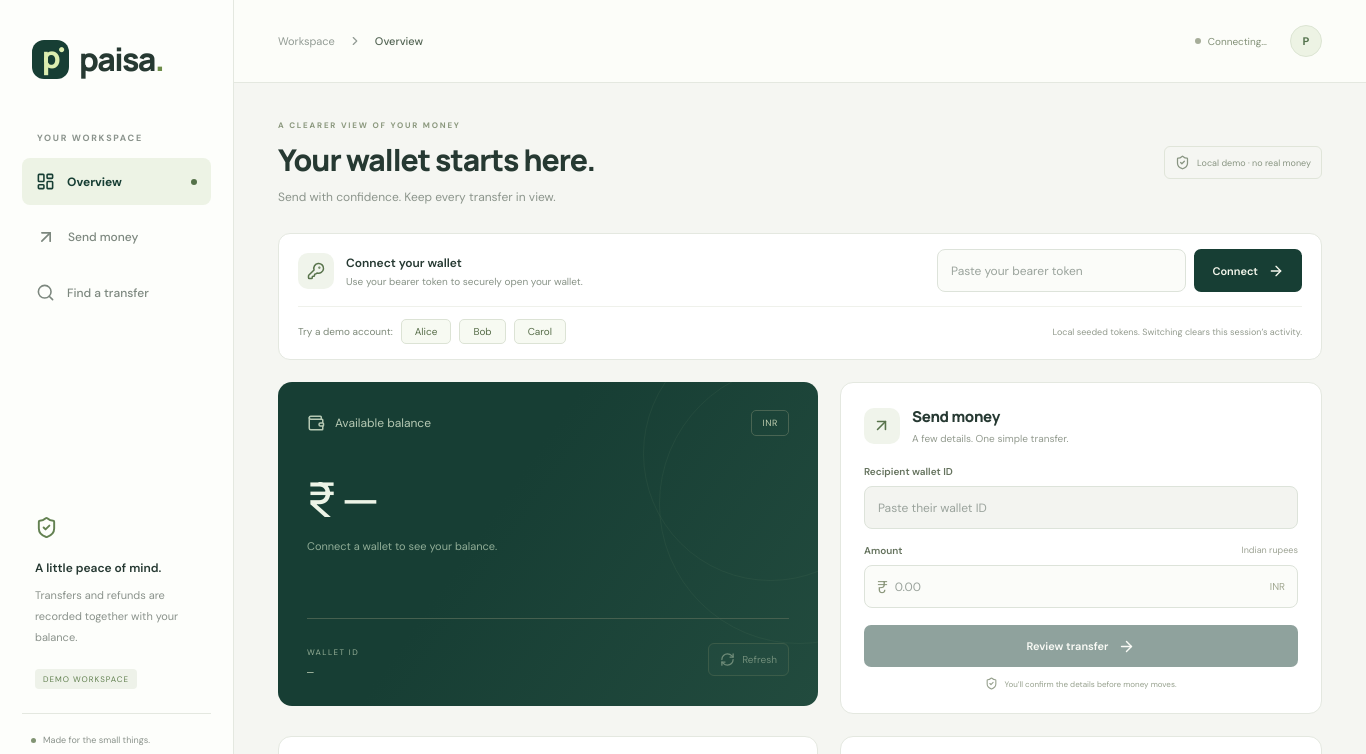
it: retains the identical request after an uncertain response
Type "test-token" into the password field labelled "bearer token". click: (1062, 270)
box: [937,249,1186,292]
Click the button "Connect". click: (1248, 270)
box: [1194,249,1302,292]
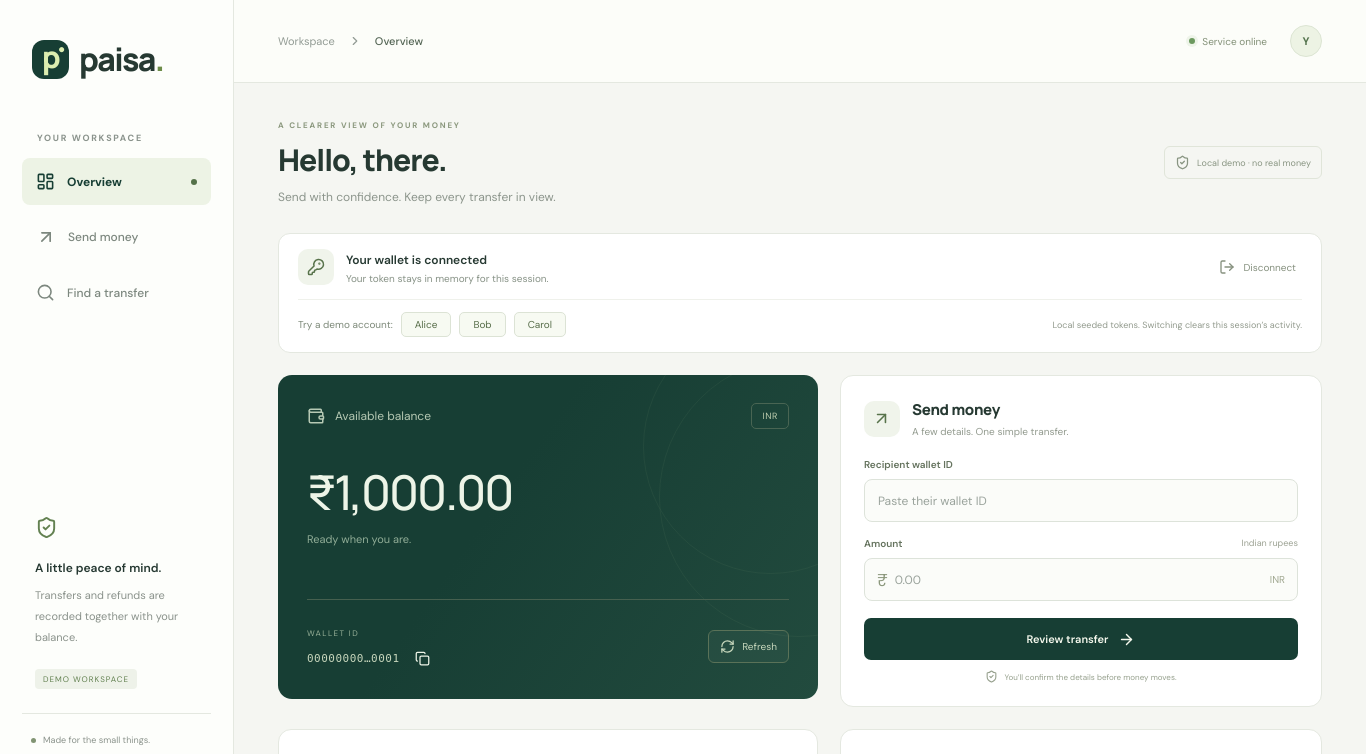
Expected: the text "Your wallet is connected" is shown, [346,252,487,268]
Type "00000000-0000-4000-8000-000000000002" into the field labelled "Recipient wallet ID". click: (1081, 500)
box: [864,479,1298,522]
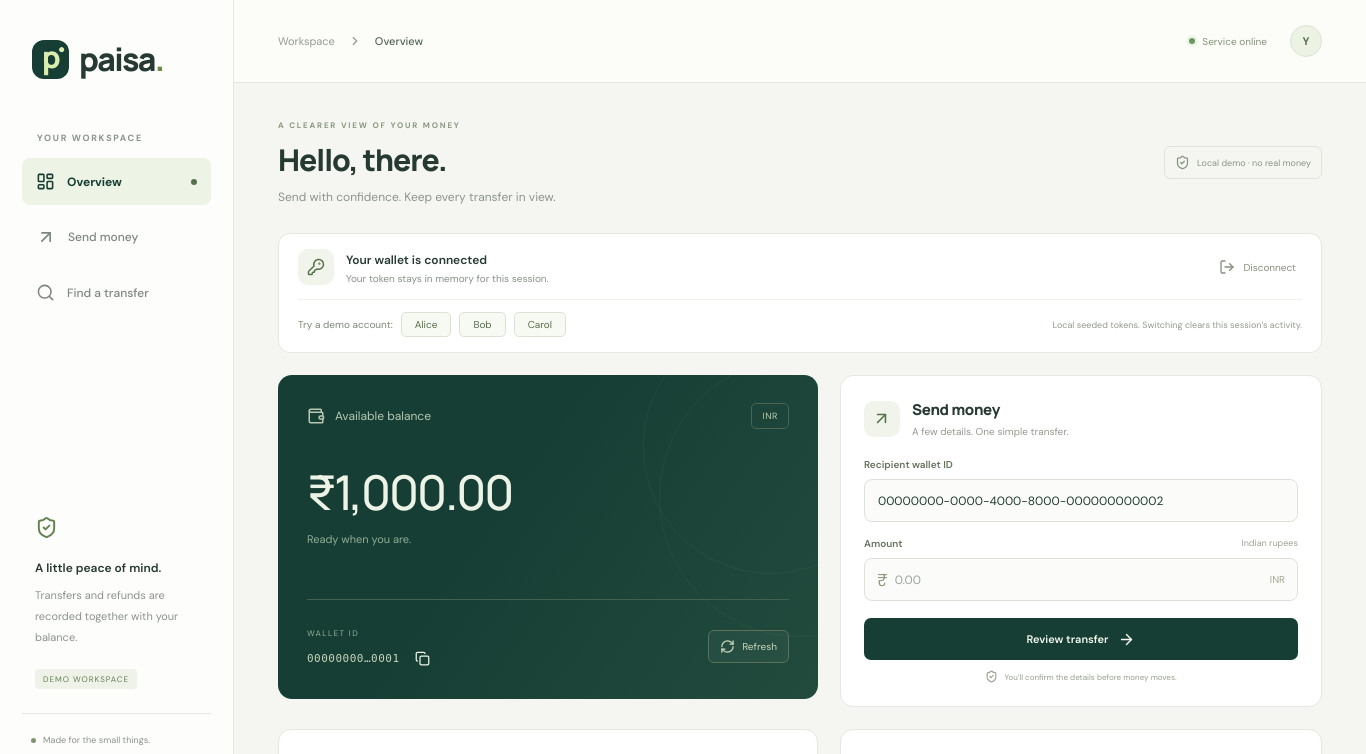
Type "12.34" into the field labelled "Amount". click: (1079, 580)
box: [895,560,1263,598]
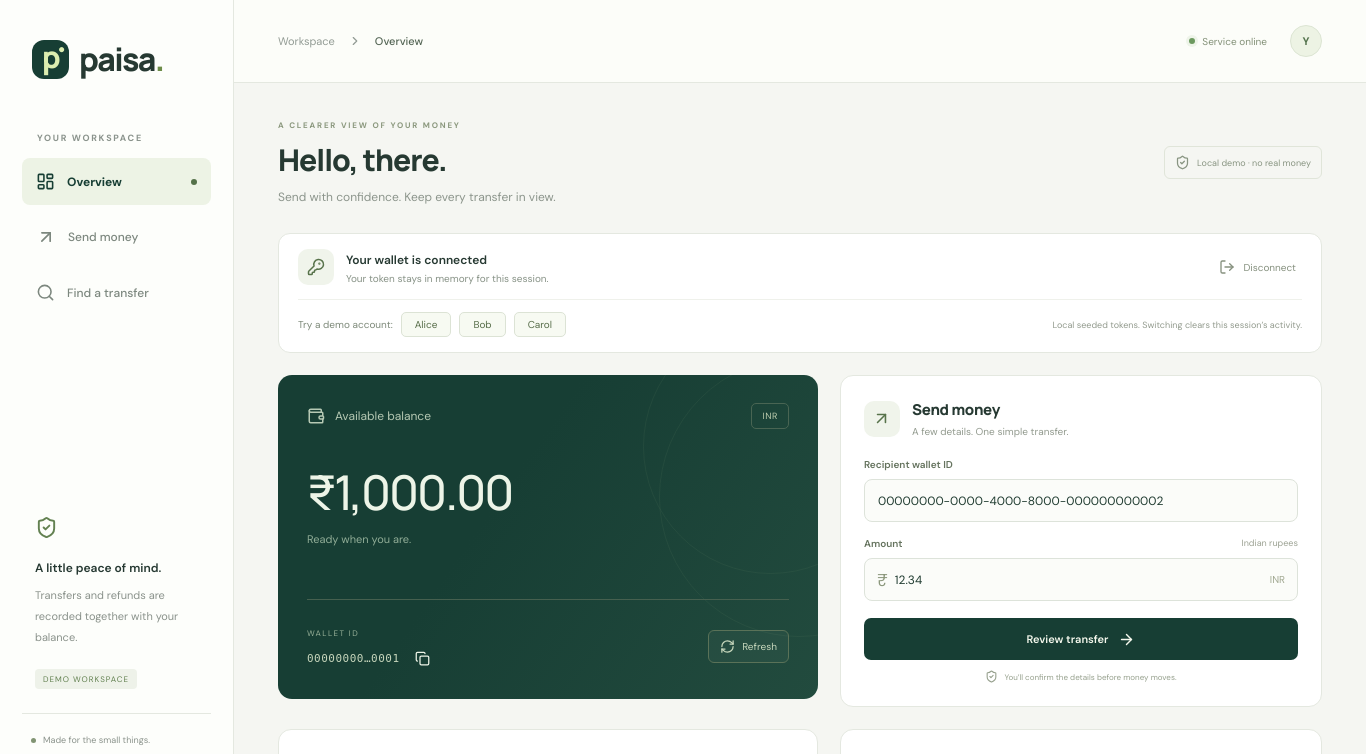
Click the button "Review transfer". click: (1081, 639)
box: [864,618,1298,660]
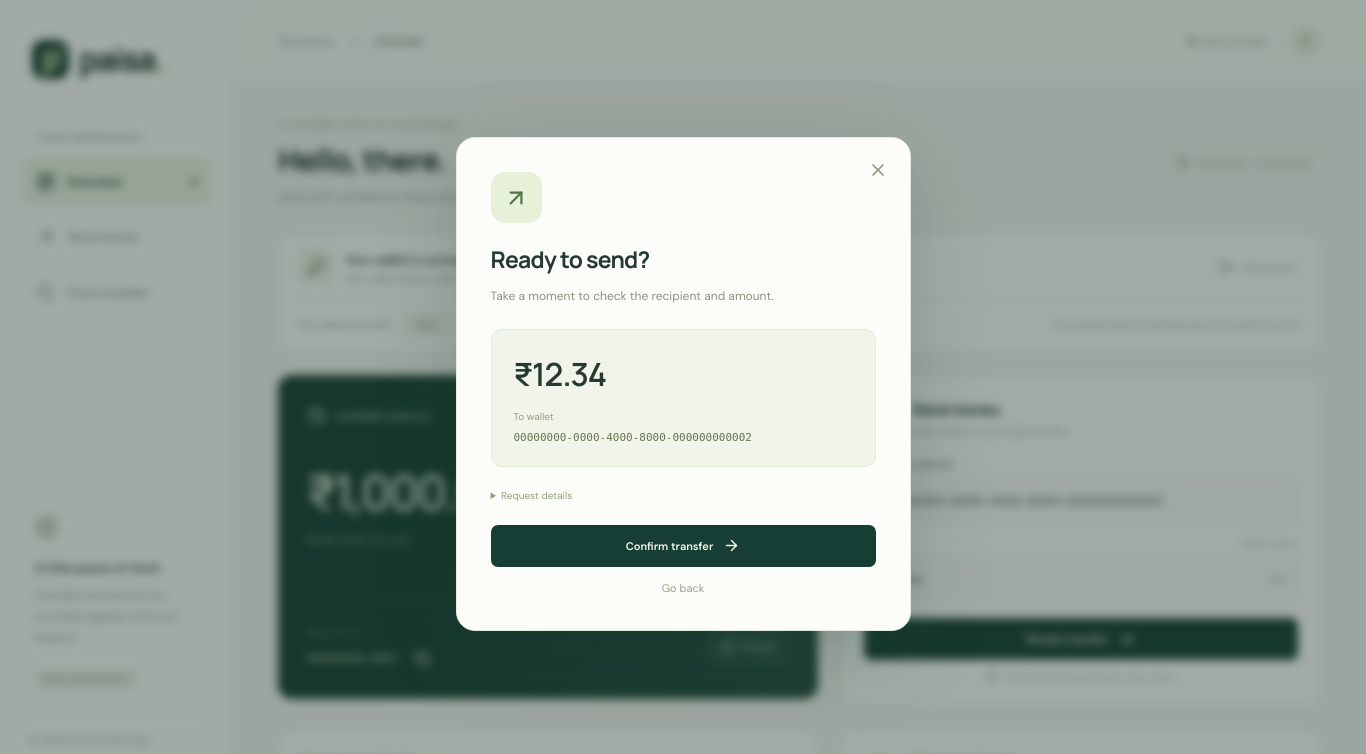
Click the button "Confirm transfer". click: (683, 546)
box: [490,525,876,567]
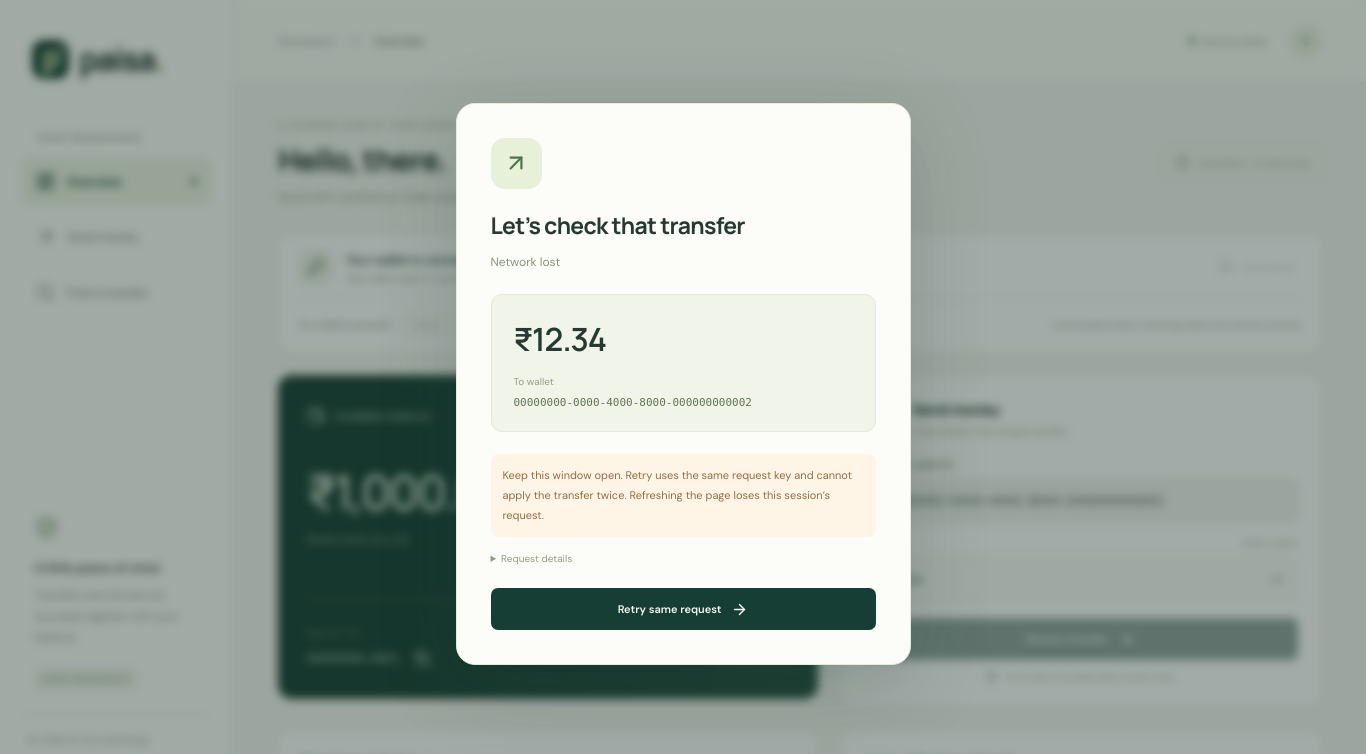
Expected: the button "Retry same request" is shown
Click the button "Retry same request". click: (683, 609)
box: [490,588,876,630]
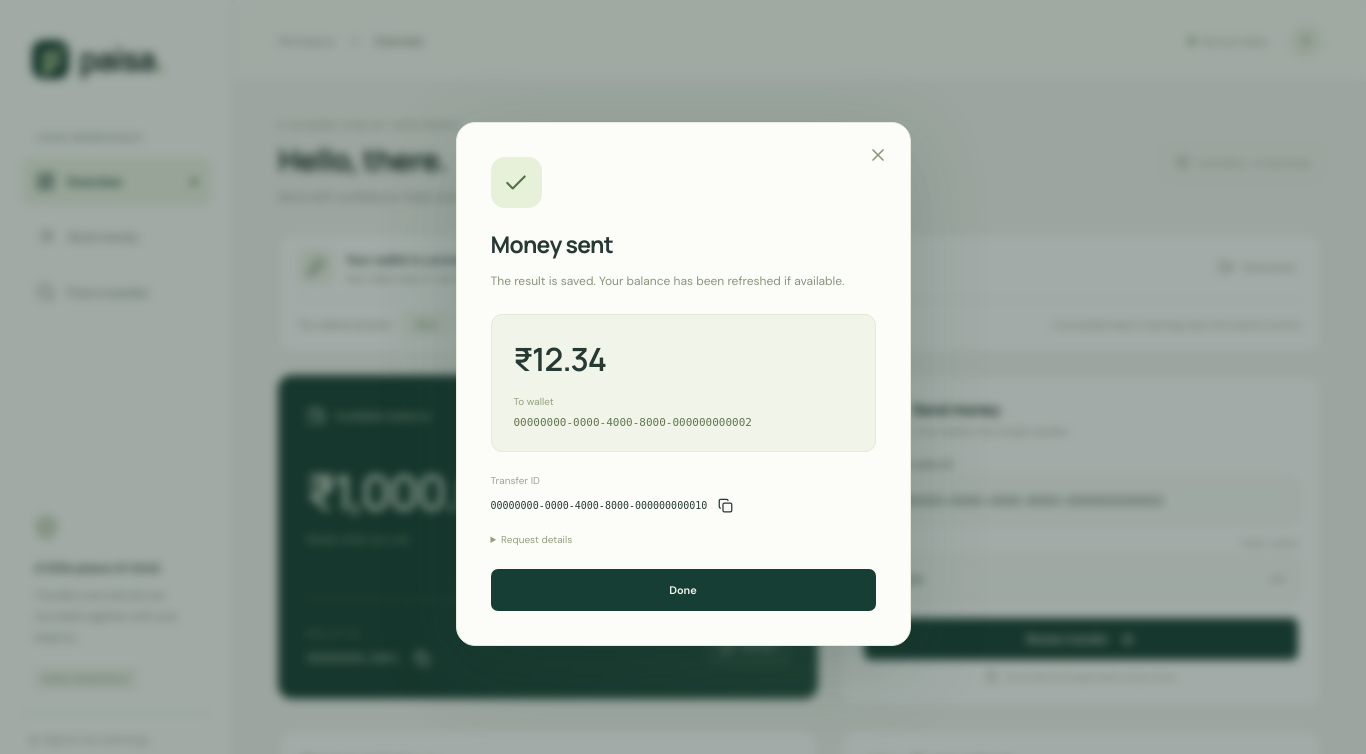
Expected: the heading "Money sent" is shown, [490,228,613,260]
